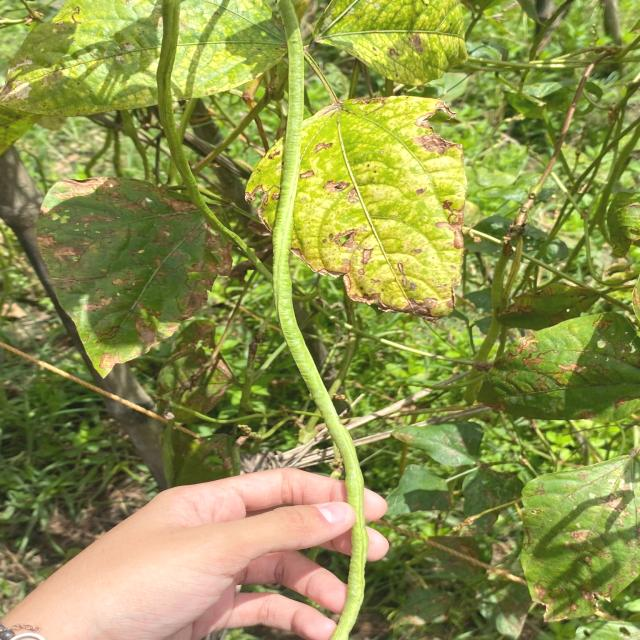leaf-moderate: (37, 178, 232, 378)
sitaw-aphid-low: (290, 96, 466, 319), (245, 140, 280, 229)
